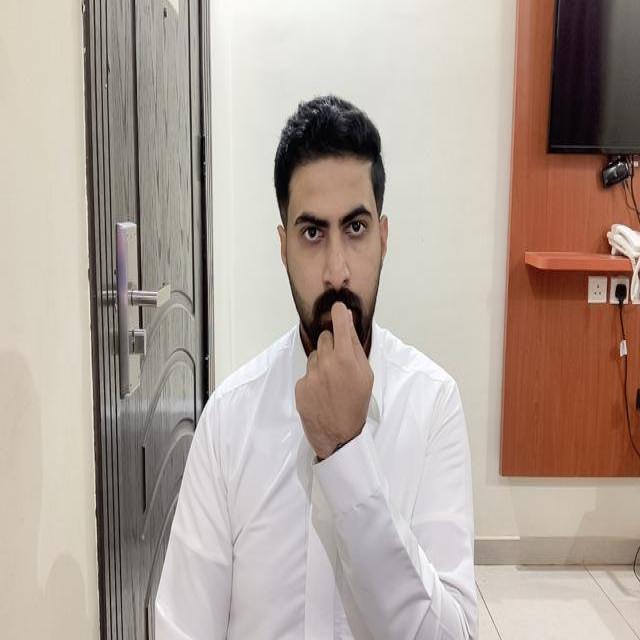medicine: (293, 300, 374, 459)
